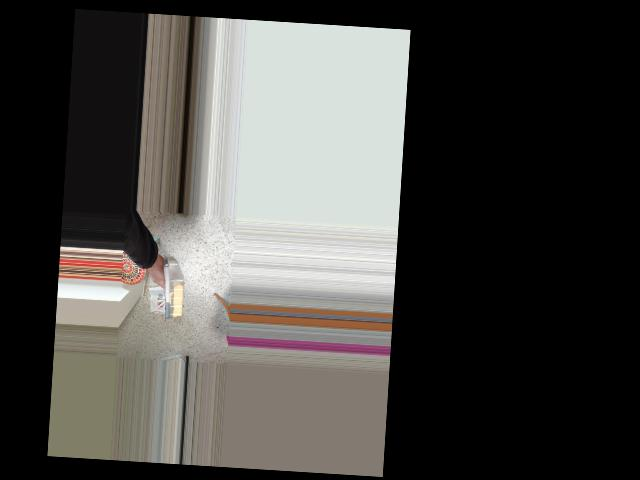cheese: (147, 258, 193, 321)
